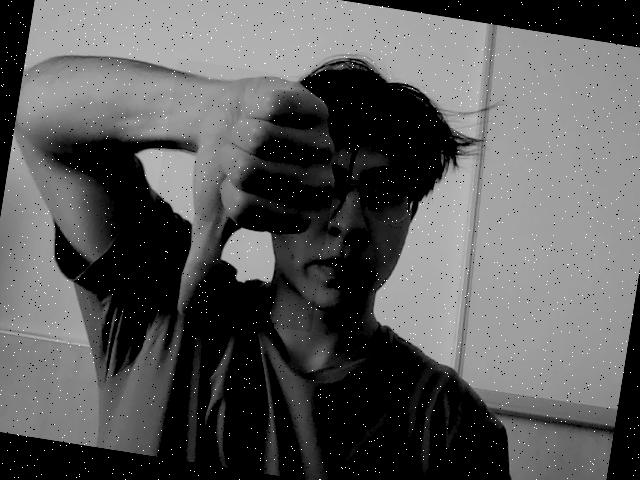bad: (138, 59, 350, 332)
